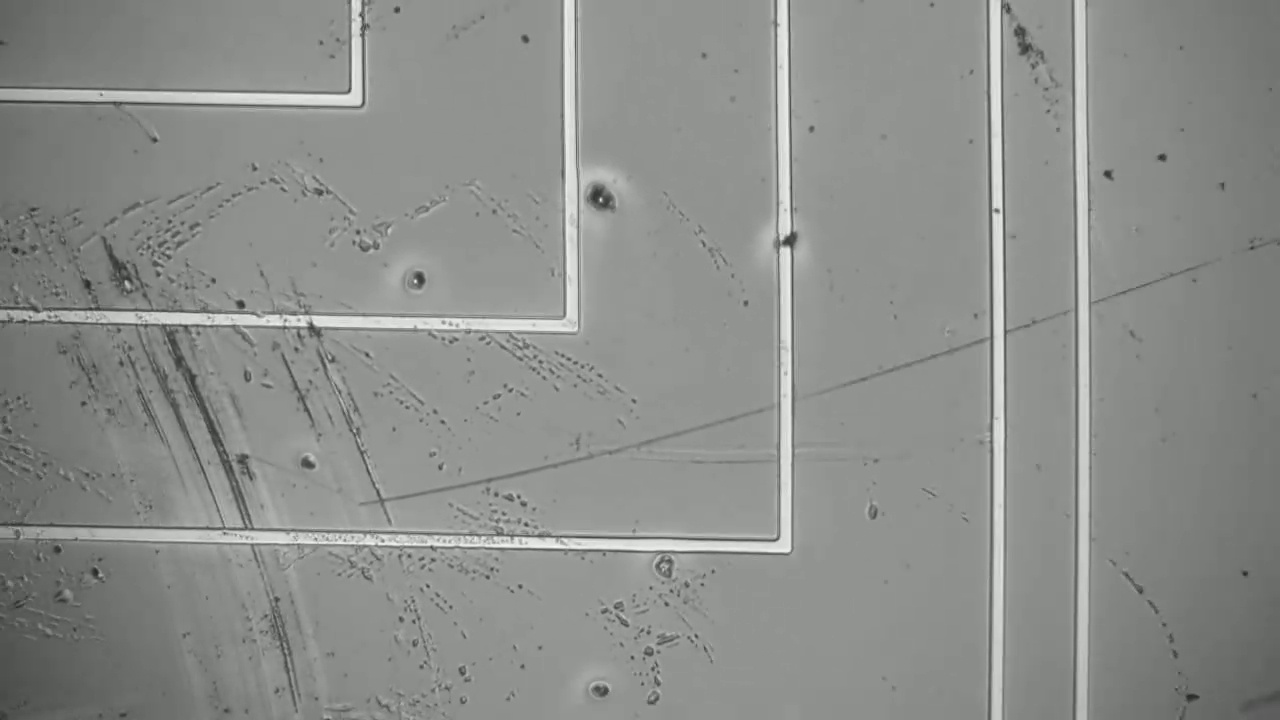scratch: (340, 239, 1255, 509), (95, 250, 310, 700), (288, 307, 400, 522), (1109, 549, 1213, 713)
stains_enbedded: (755, 213, 803, 262)
